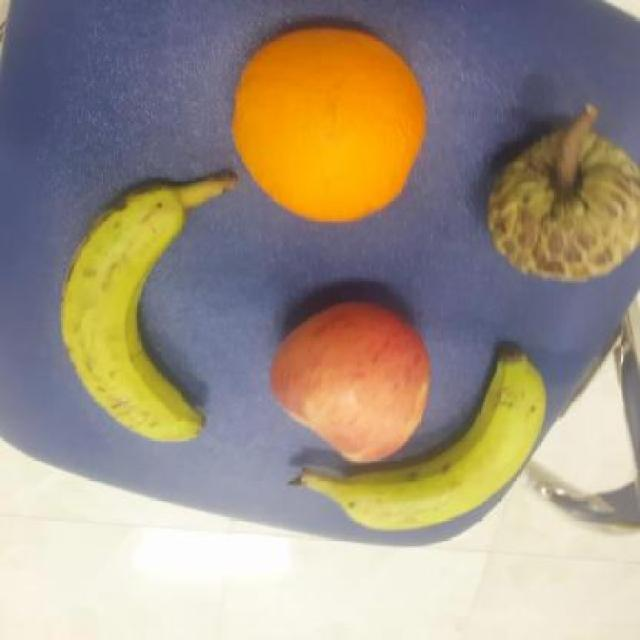apple: (262, 301, 436, 468)
banana: (55, 172, 202, 453), (345, 345, 548, 539)
oren: (233, 23, 424, 226)
sugar apple: (486, 123, 640, 286)
